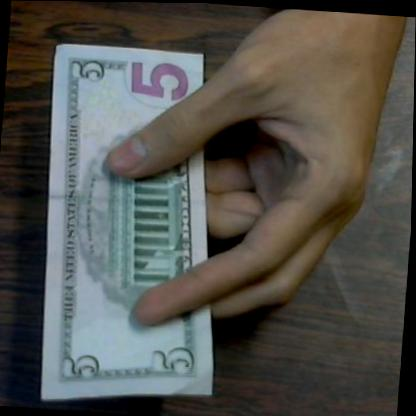five-back: (28, 26, 237, 407)
